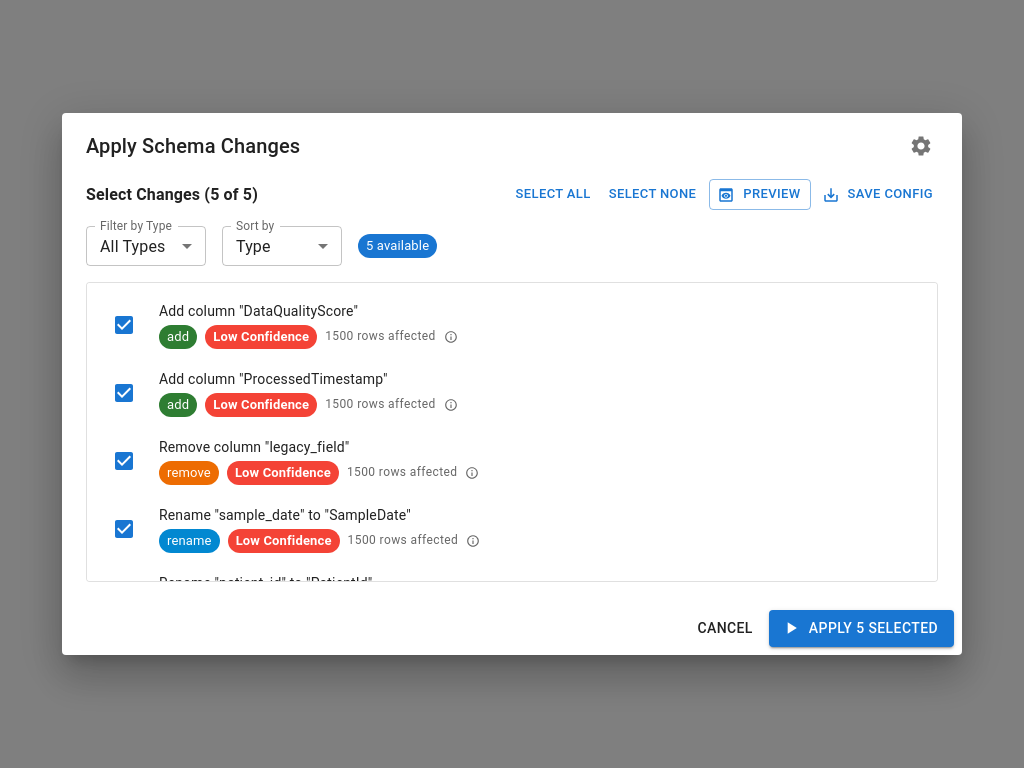
Test: Bulk Operations End-to-End Workflow › Complete Bulk Apply Workflow › should handle selective bulk operations with filtering
expect the heading "Select Changes (5 of 5)" is shown: met, box x1=86 y1=181 x2=258 y2=209
Deselect all operations first
Click the button "Select None" at [652, 195], box x1=604 y1=179 x2=701 y2=210
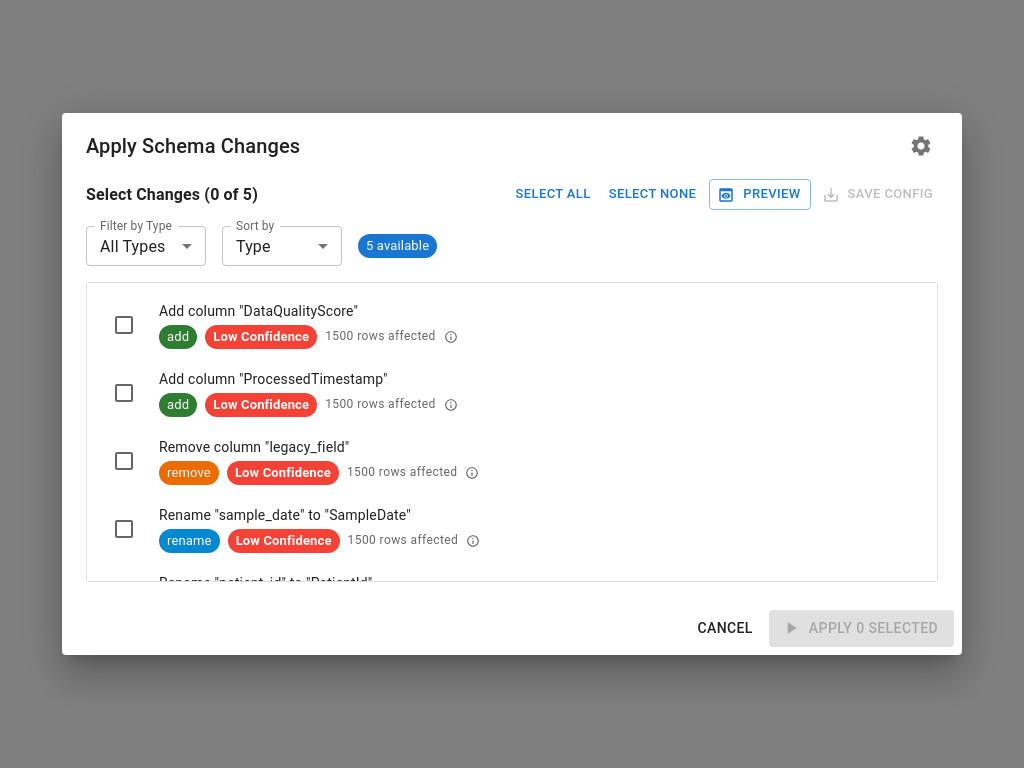
expect the heading "Select Changes (0 of 5)" is shown: met, box x1=86 y1=181 x2=258 y2=209
Click the first change checkbox (index 1, since index 0 is the "Select All" checkbox)
Click the checkbox next to "Add column \"ProcessedTimestamp\"" at [124, 393], box x1=112 y1=381 x2=136 y2=405
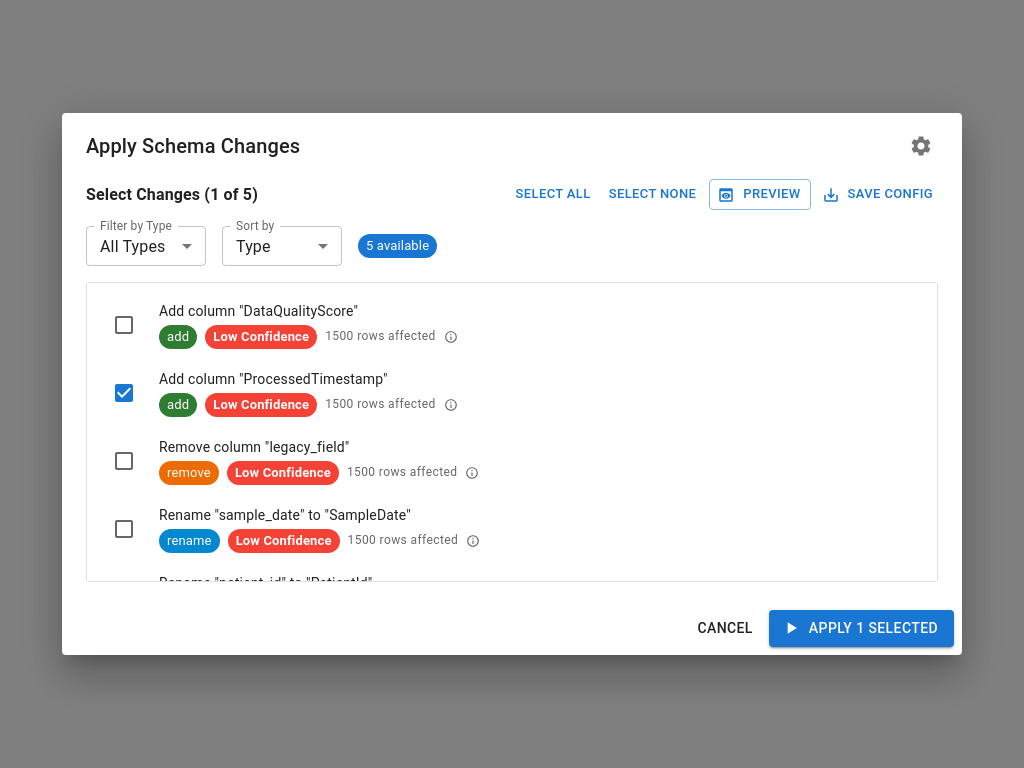
expect the heading "Select Changes (1 of 5)" is shown: met, box x1=86 y1=181 x2=258 y2=209
Execute selective operation
Click the button "Apply 1 Selected" at [861, 628], box x1=769 y1=610 x2=954 y2=647
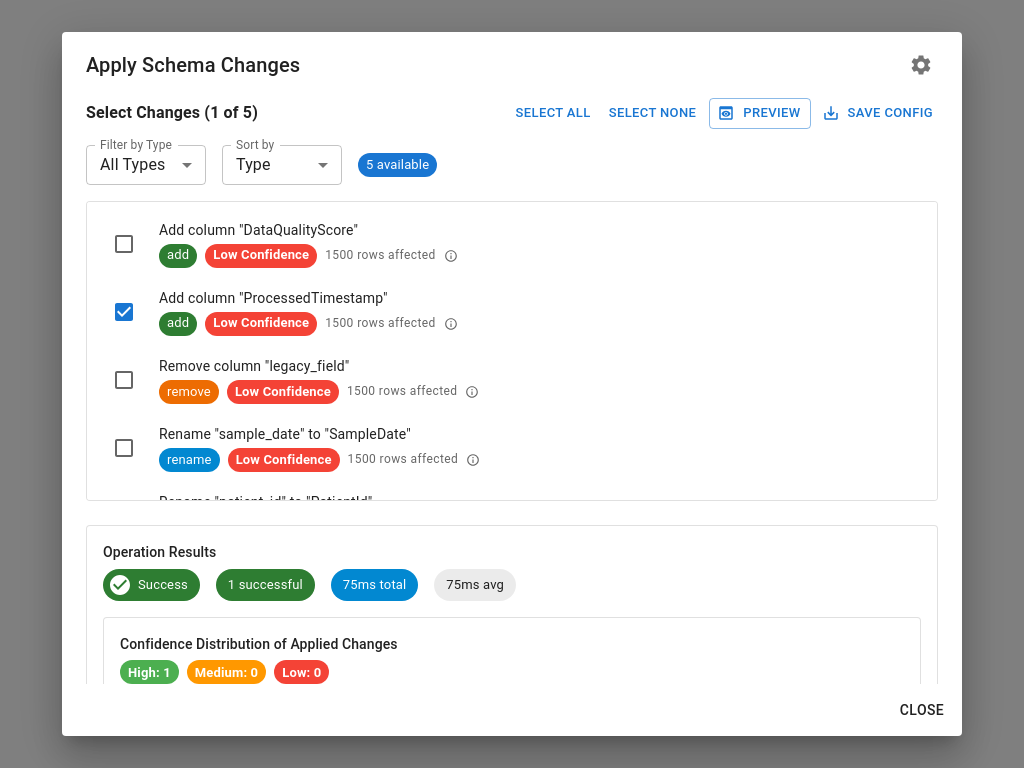
expect the text "Success" is shown: met, box x1=138 y1=577 x2=188 y2=592
expect the text "1 successful" is shown: met, box x1=228 y1=577 x2=303 y2=592
